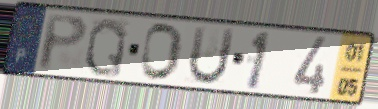1: (246, 30, 272, 92)
4: (290, 33, 330, 98)
O: (139, 21, 186, 83)
P: (37, 13, 90, 74)
Q: (82, 16, 130, 80)
U: (186, 25, 238, 88)
